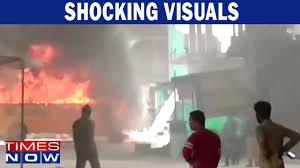fire: (0, 56, 93, 106)
